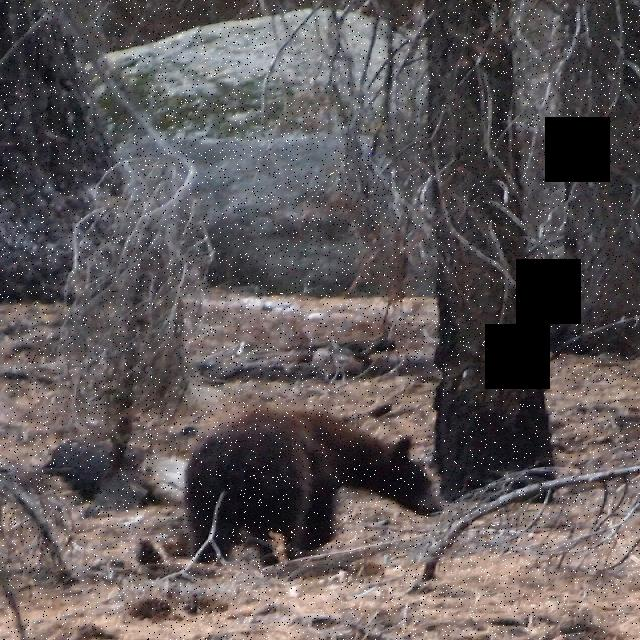Bear: (172, 399, 454, 555)
